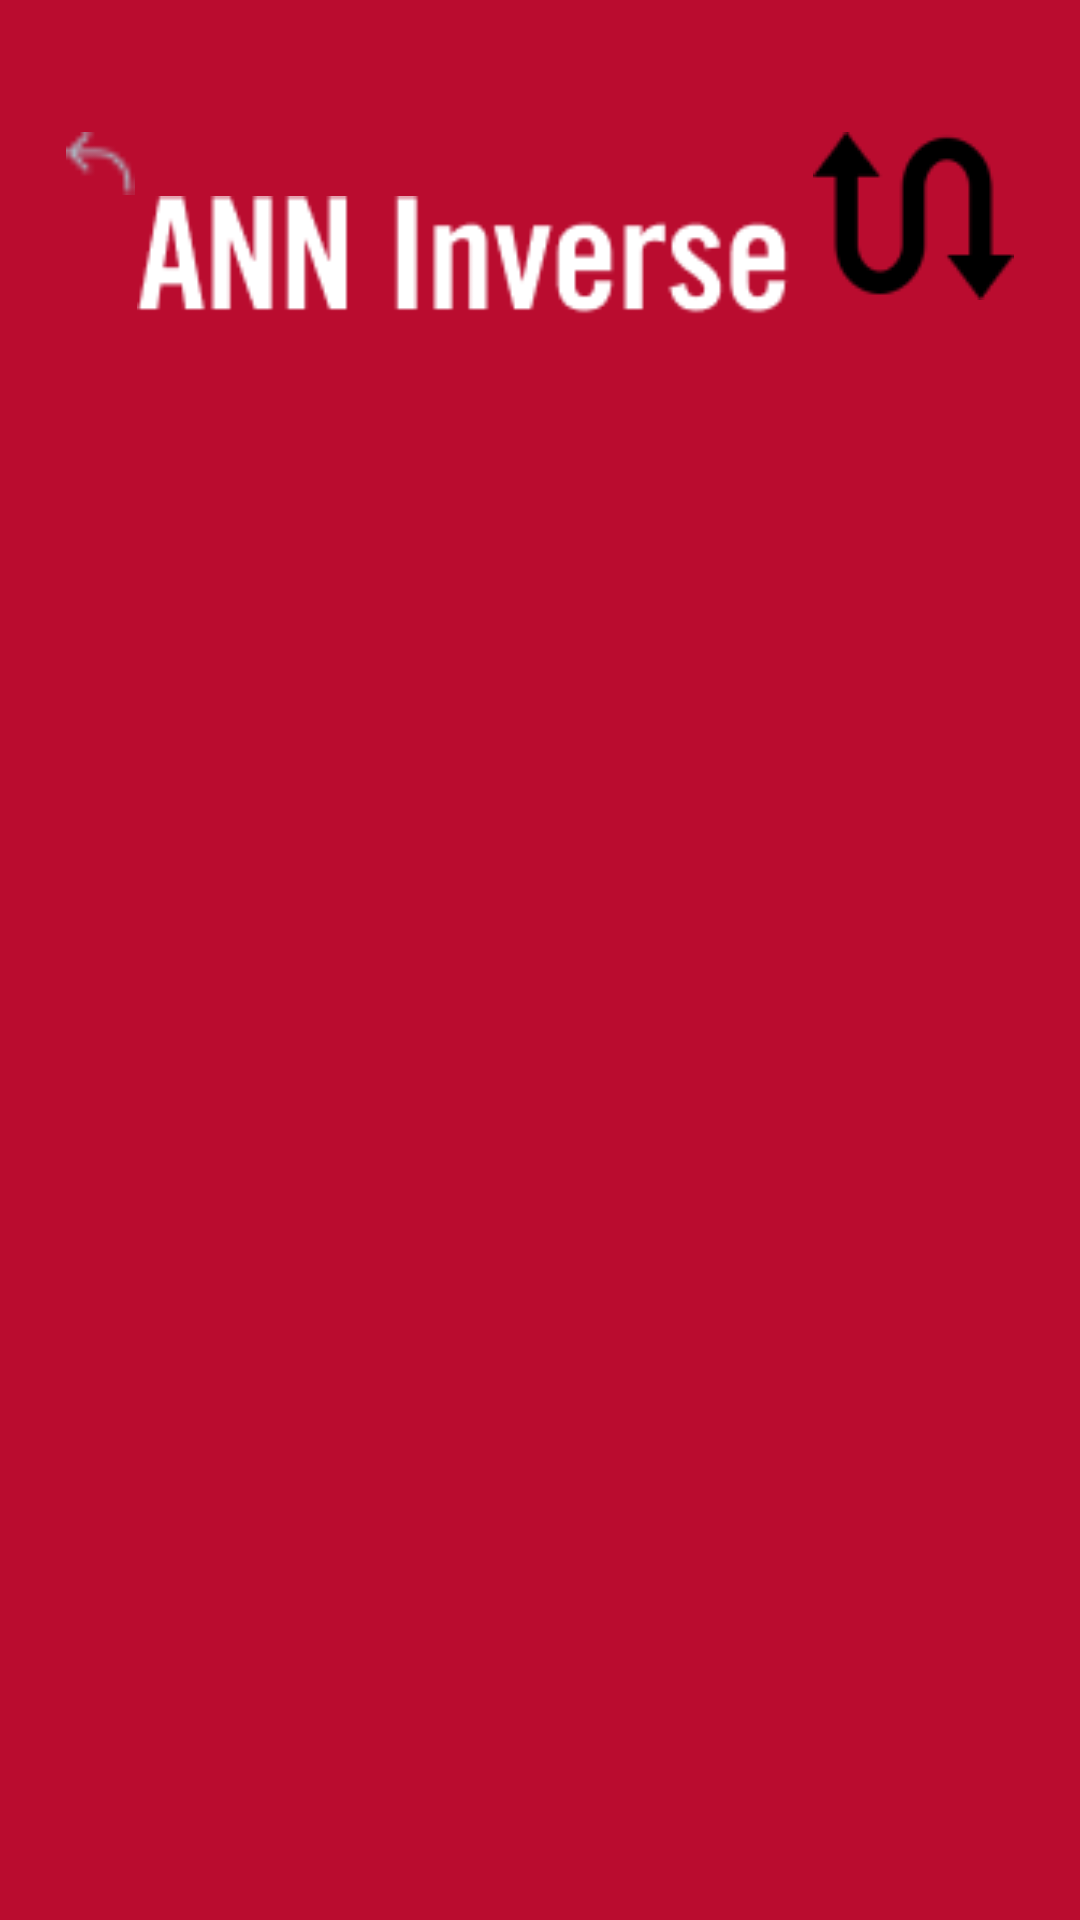

Named icons in this screenshot (1080 x 1920) and their bounding boxes, box(x1, y1, x2, y2):
back: box(66, 132, 135, 195)
